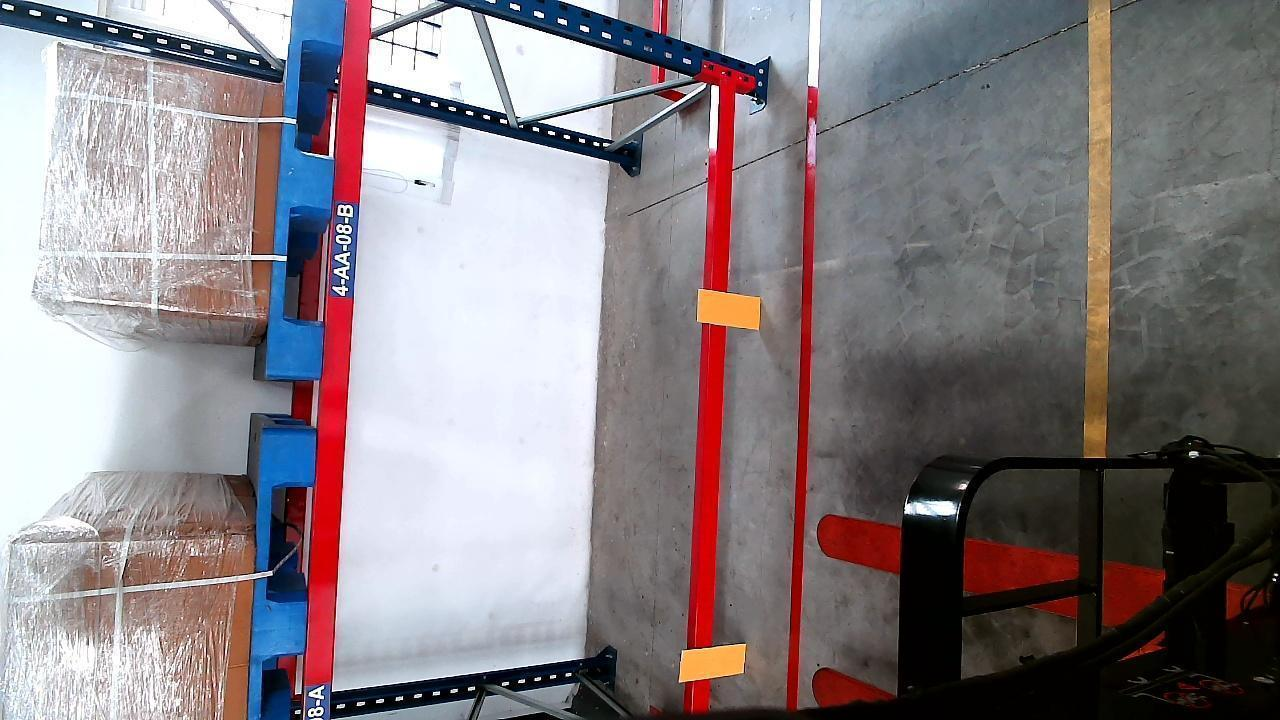red_line: (783, 74, 820, 702)
yellow_line: (1086, 0, 1114, 454)
